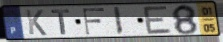8: (170, 4, 200, 36)
E: (142, 4, 174, 36)
F: (81, 7, 106, 36)
I: (112, 6, 125, 37)
K: (25, 9, 49, 37)
T: (50, 8, 71, 36)
